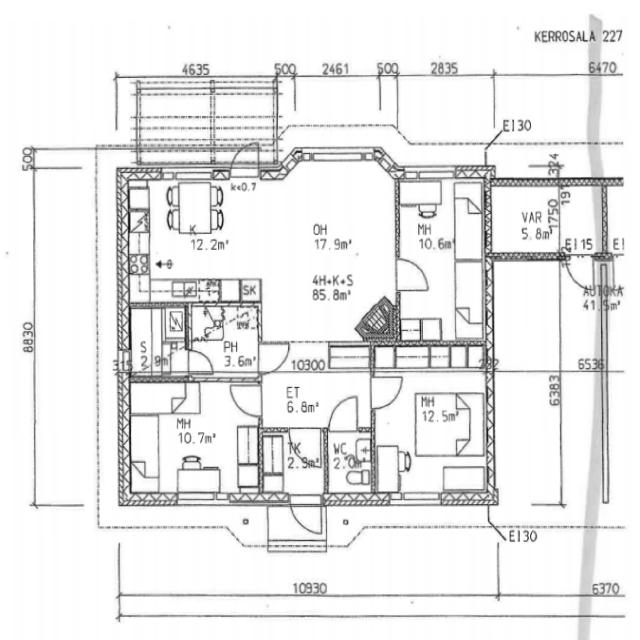door: (286, 490, 325, 541), (392, 252, 435, 296), (367, 369, 409, 413), (226, 376, 265, 422), (324, 392, 364, 435), (286, 427, 326, 469), (376, 125, 410, 172), (255, 338, 293, 376), (561, 253, 598, 292), (227, 140, 262, 178), (274, 137, 304, 178), (186, 344, 218, 379)
window: (146, 154, 226, 181), (297, 143, 381, 167), (404, 160, 464, 184), (394, 488, 444, 510), (372, 140, 402, 175), (274, 146, 305, 178), (174, 492, 226, 509)
zone: (114, 169, 397, 321), (370, 351, 490, 503), (125, 378, 263, 506), (396, 171, 485, 349), (488, 72, 594, 182), (482, 181, 602, 261), (260, 343, 370, 428), (186, 302, 262, 379), (128, 304, 188, 380), (325, 429, 374, 504)
